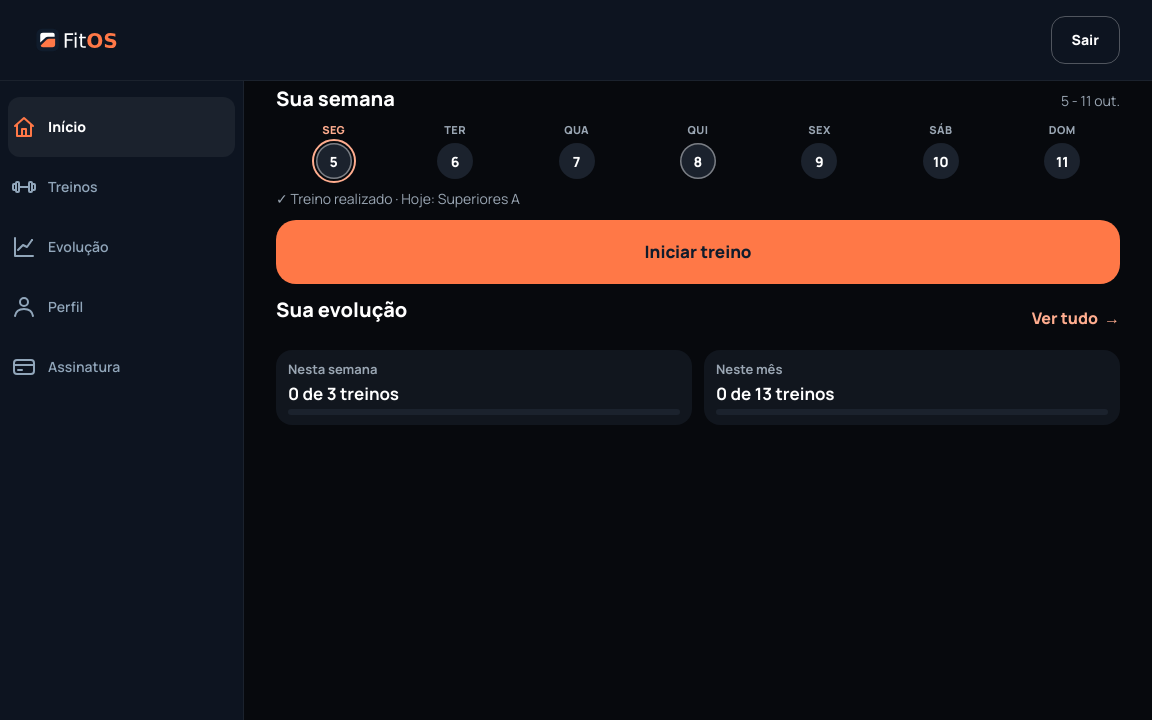
IndividualHome: painel (proposta 9) › Iniciar treino: programado, avulso e realizado, nesta ordem
Expected: the text "✓ Treino realizado · Hoje: Superiores A" is shown, [276,189,520,208]
Expected: the text "0 de 3 treinos" is shown, [288,382,399,405]
Click the button "Iniciar treino".
click(698, 252)  # box [276,220,1120,284]
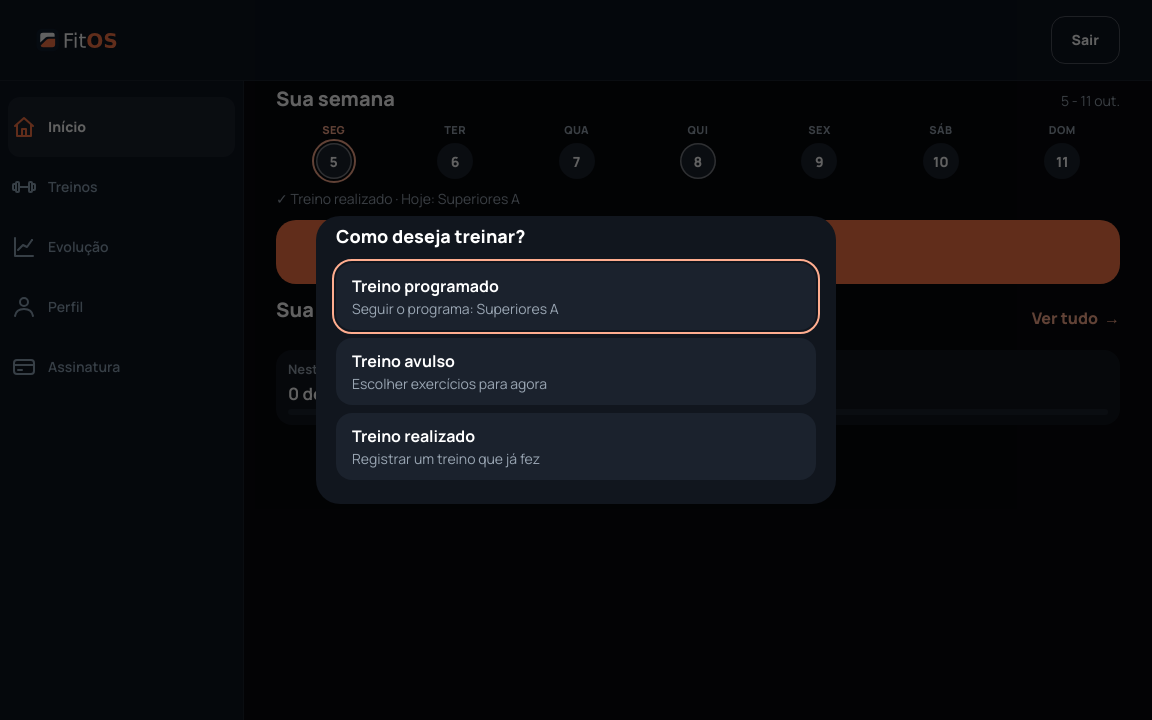
Click the button "Treino avulso Escolher exercícios para agora".
click(404, 361)  # box [336,338,816,405]
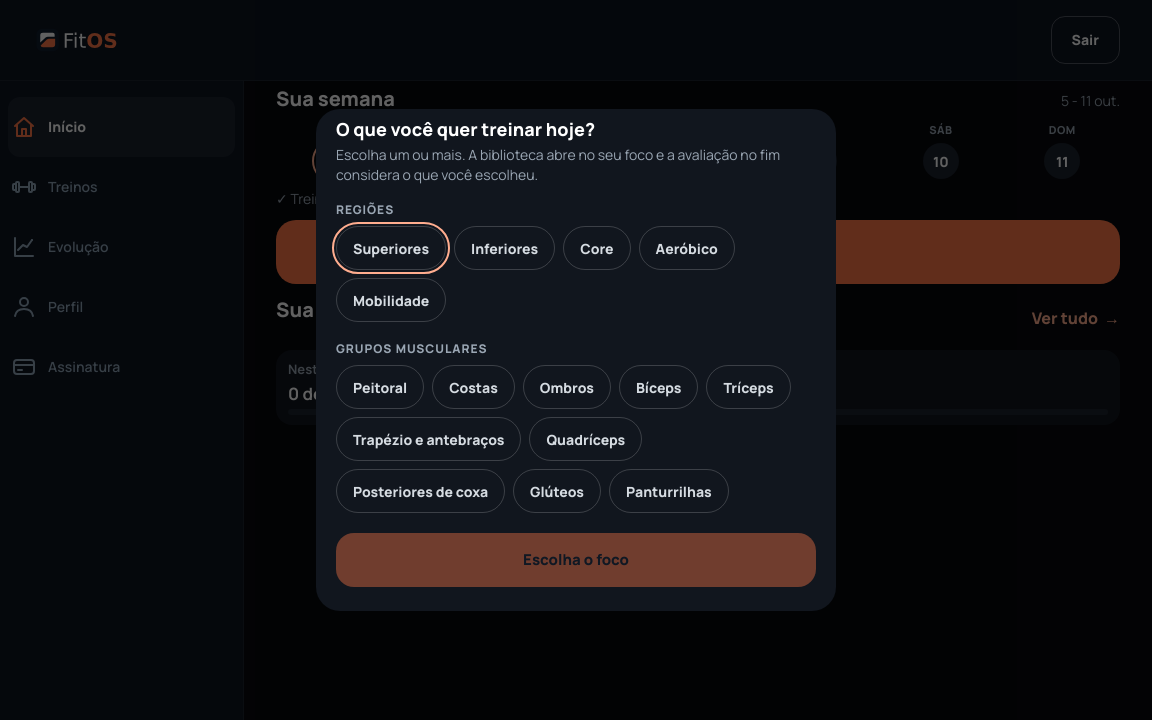
Expected: the heading "Como deseja treinar?" is gone
Expected: the dialog "O que você quer treinar hoje?" is shown, [316,109,836,611]
